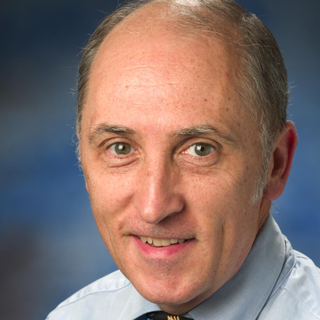eye: (169, 132, 224, 169), (92, 132, 146, 166)
